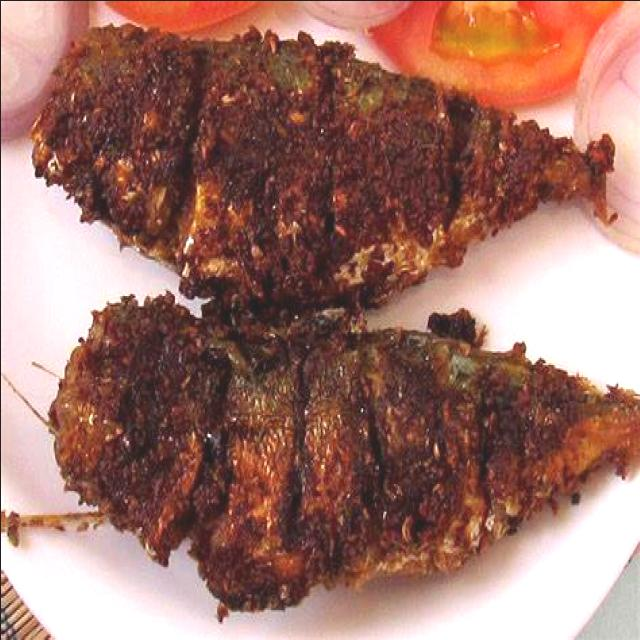ikan bakar: (47, 295, 640, 612), (27, 22, 616, 311)
